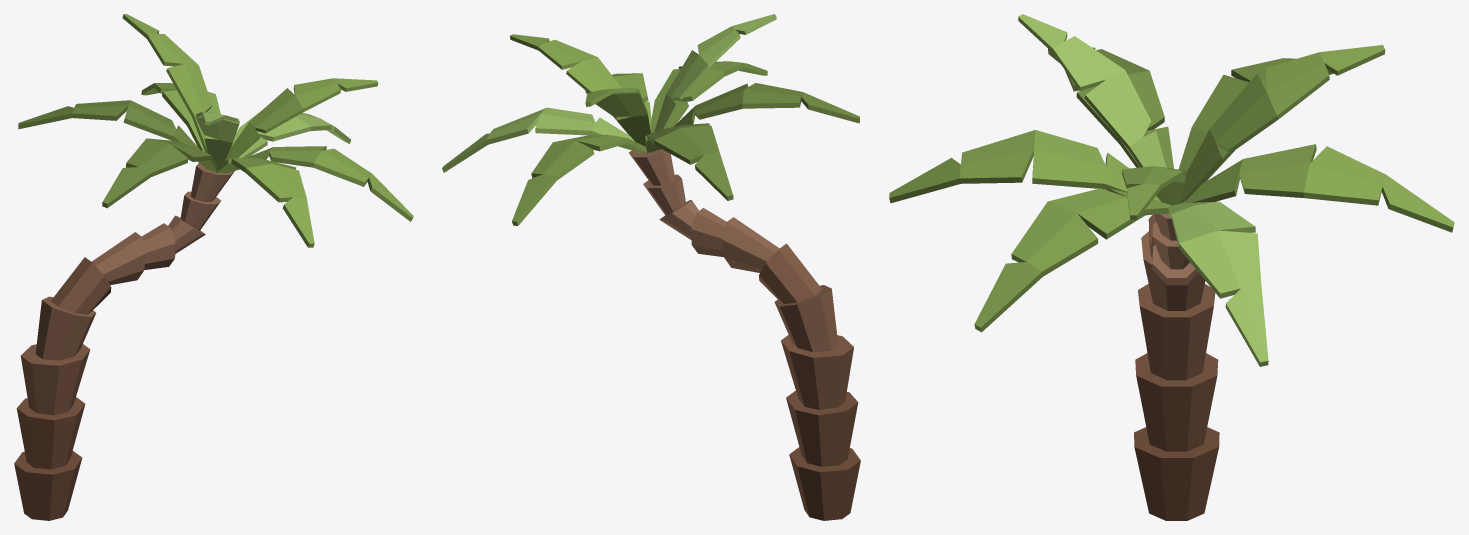
The model's file is palm_4.fbx.
3 views of the same model, side by side, from view 1: azimuth 30°, elevation 25°; view 2: azimuth 150°, elevation 25°; view 3: azimuth 270°, elevation 25° (orthographic). The views are drawn at different scales.
Visible parts, largest first — view 1: palm_4; view 2: palm_4; view 3: palm_4.
Part boxes in pixels (x1,y1,x2,y2): palm_4: (14, 14, 413, 520); palm_4: (442, 14, 860, 520); palm_4: (889, 14, 1454, 520).
Bounding box in the file's own units: 499 × 536 × 485.
